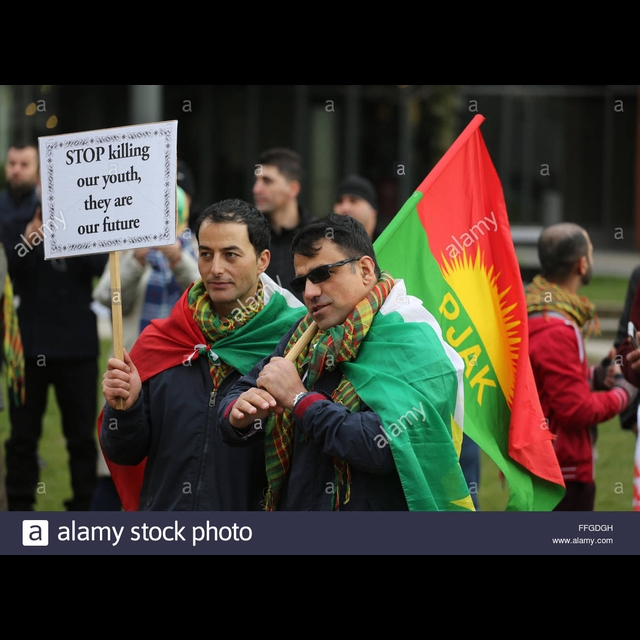PJAK: (424, 250, 521, 406)
